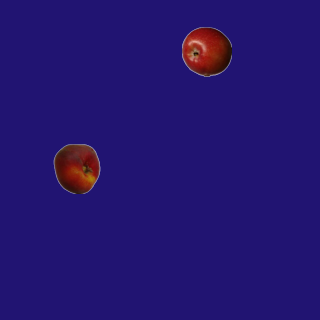Apple Braeburn: (181, 26, 231, 76)
Nectarine Flat: (51, 143, 101, 193)
